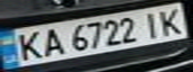2: (118, 14, 142, 44), (103, 16, 124, 47)
6: (66, 20, 90, 52)
7: (84, 19, 106, 51)
A: (36, 25, 66, 57)
I: (139, 9, 166, 38)
K: (9, 28, 48, 62), (154, 6, 190, 36)
